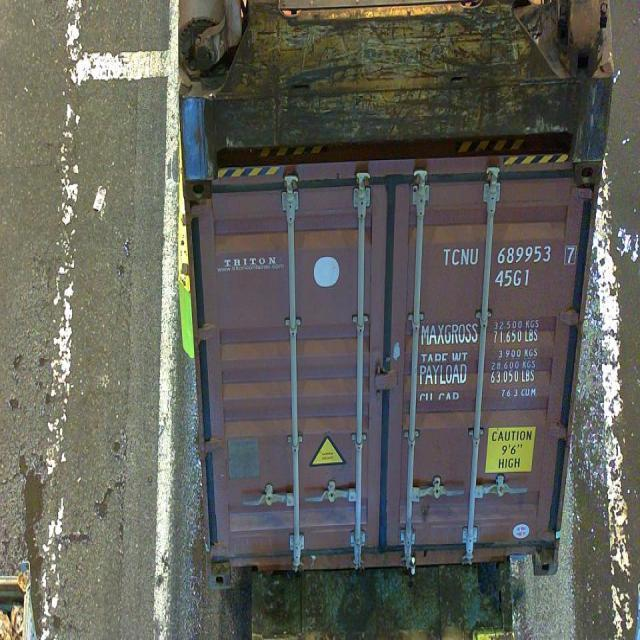ISO: (496, 268, 532, 288)
container_number: (446, 243, 582, 266)
